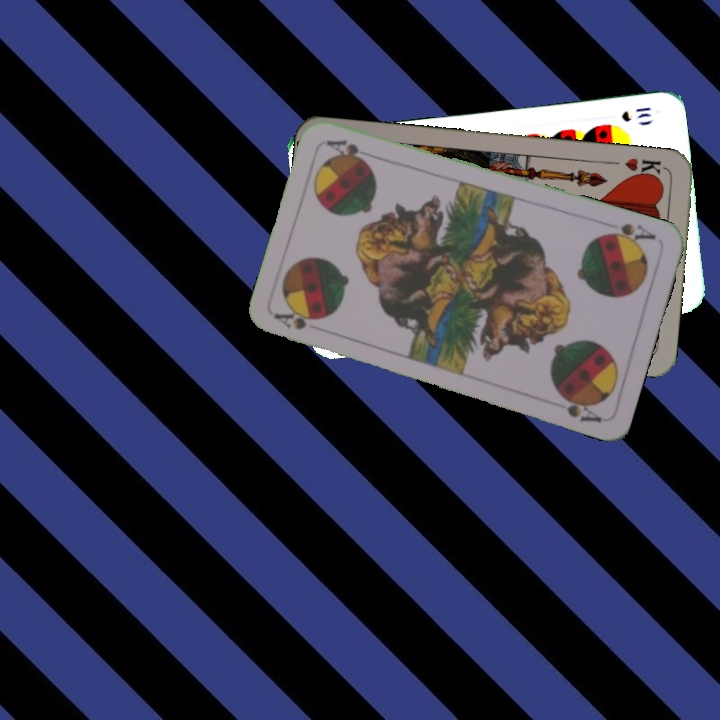HK: (621, 153, 668, 182)
S10: (617, 103, 654, 124)
SA: (599, 219, 658, 248), (271, 309, 320, 332)
